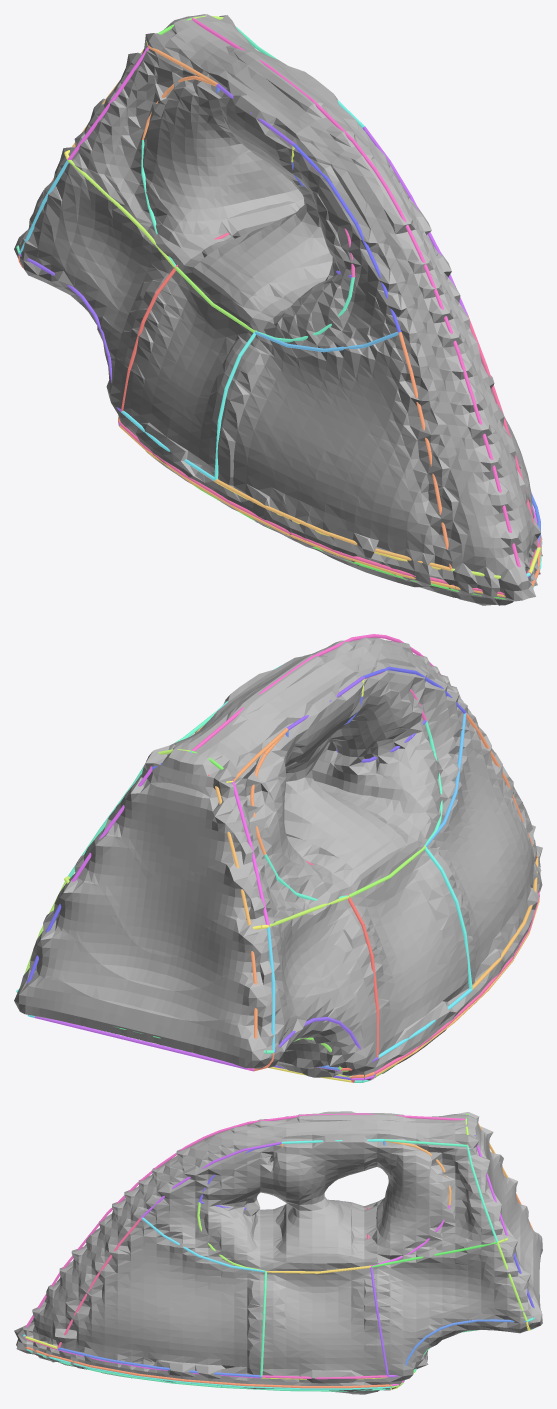
File: onshape_iron.gltf
3 views of the same model, one above another, from view 1: azimuth 30°, elevation 25°; view 2: azimuth 150°, elevation 25°; view 3: azimuth 270°, elevation 25° (orthographic). The views are drawn at different scales.
Size of the model in its own units: 0.3418 by 0.4475 by 0.8612.
